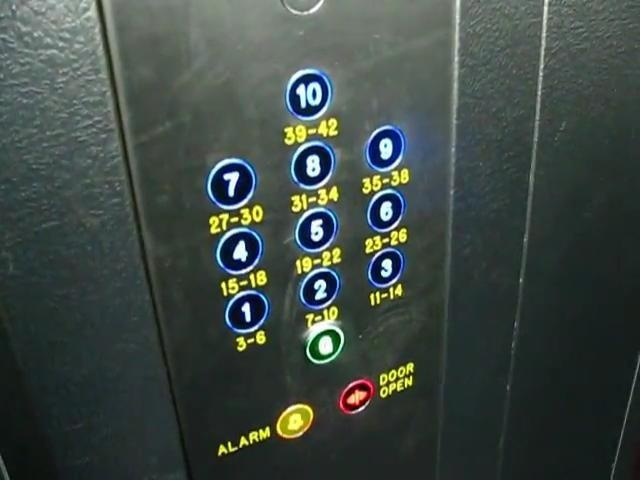1: (223, 289, 271, 336)
10: (282, 67, 335, 122)
2: (299, 266, 340, 310)
3: (366, 246, 407, 290)
4: (214, 225, 264, 276)
5: (293, 205, 338, 253)
6: (364, 188, 406, 233)
7: (205, 155, 258, 210)
8: (289, 139, 336, 191)
9: (362, 122, 409, 174)
G: (303, 321, 344, 365)
alarm: (275, 402, 315, 441)
open: (337, 378, 374, 416)
